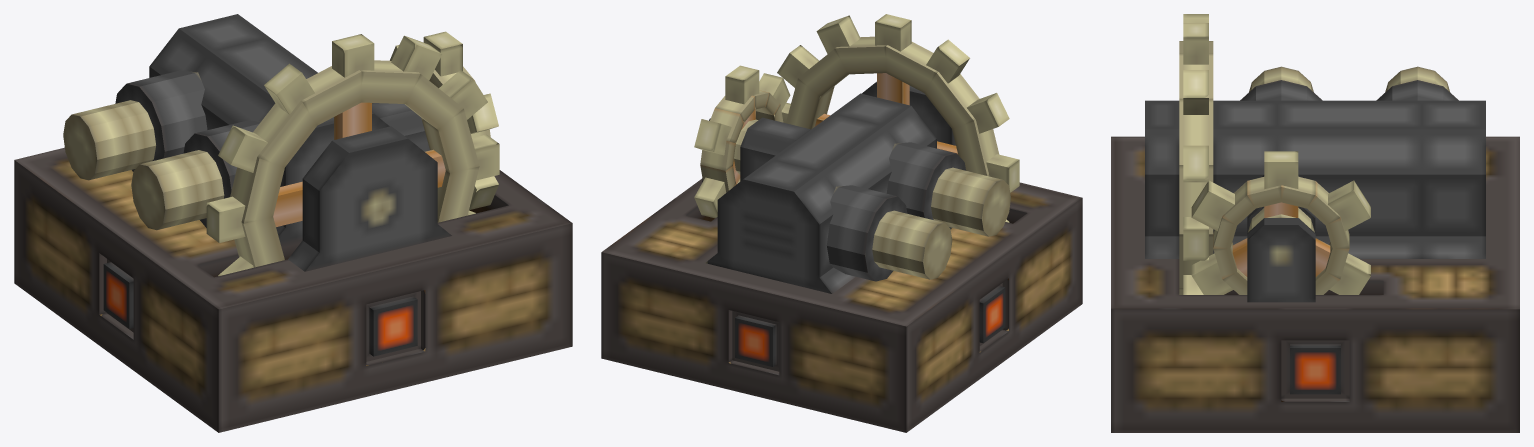
File: stirling.obj
3 views of the same model, side by side, from view 1: azimuth 30°, elevation 25°; view 2: azimuth 150°, elevation 25°; view 3: azimuth 270°, elevation 25° (orthographic). The views are drawn at different scales.
Parts seen in each view (by area): view 1: Base, Cog, Piston, CogSmall; view 2: Base, Cog, Piston, CogSmall; view 3: Base, CogSmall, Cog, Piston.
Boxes of the visible parts, x1,y1,x2,y2 form: Base: [14, 14, 572, 432]; Cog: [206, 34, 499, 276]; Piston: [63, 100, 224, 230]; CogSmall: [390, 31, 498, 210]; Base: [601, 81, 1082, 432]; Cog: [777, 14, 1019, 222]; Piston: [872, 167, 1010, 279]; CogSmall: [694, 65, 790, 218]; Base: [1111, 80, 1519, 432]; CogSmall: [1191, 151, 1370, 294]; Cog: [1179, 14, 1213, 294]; Piston: [1249, 66, 1449, 92].
Bounding box in the file's own units: 3 × 2.56 × 3.
